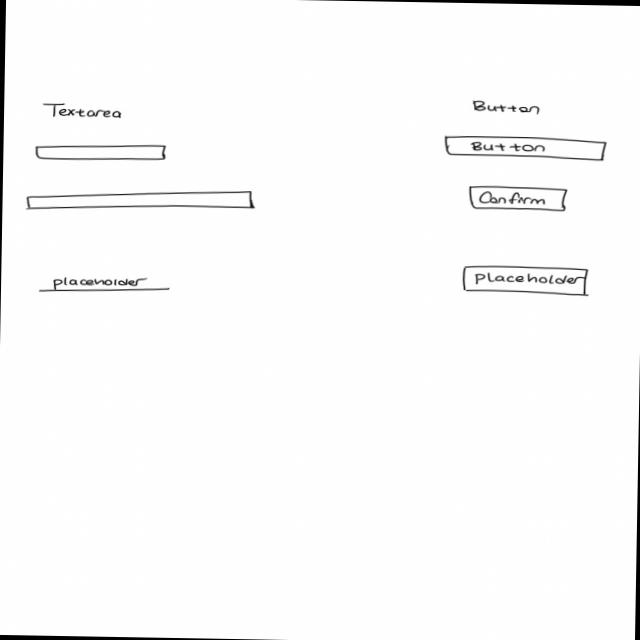button: (441, 135, 609, 164), (460, 265, 590, 299), (468, 186, 571, 215)
container: (22, 186, 258, 216), (35, 141, 170, 164)
input: (39, 271, 171, 296)
label: (43, 104, 125, 122), (470, 101, 544, 118)
